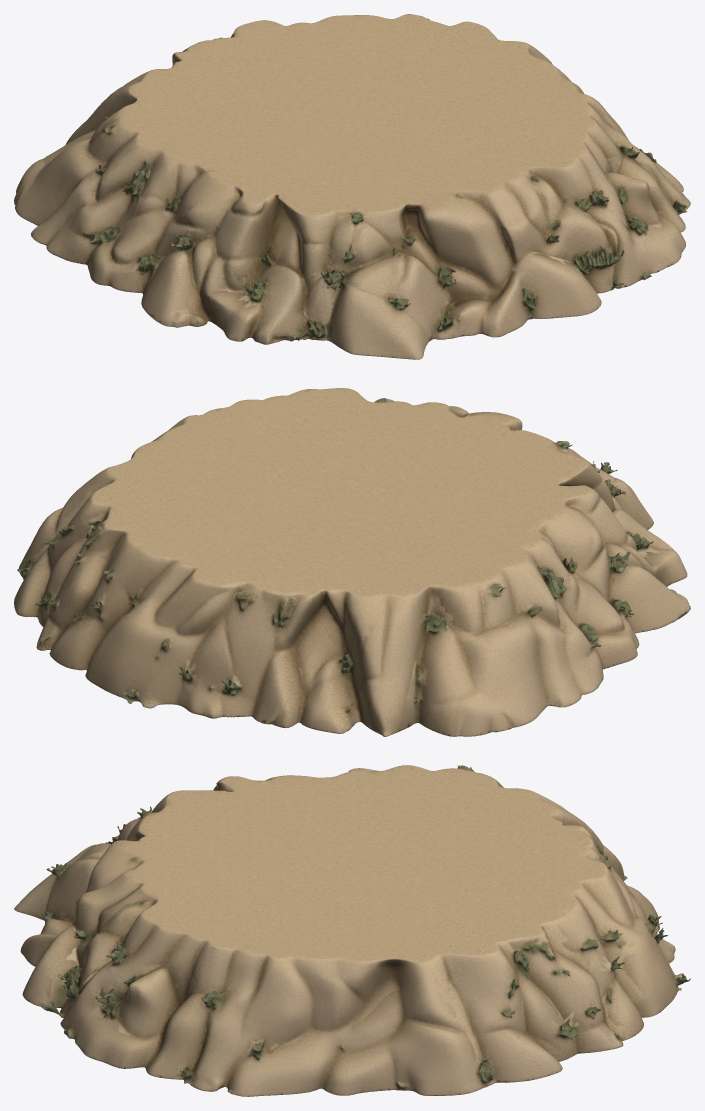
Rendered from Meshy_AI_A_realistic_3D_game_e_0909173639_texture.fbx.
The picture shows the model from 3 angles, top to bottom: view 1: azimuth 30°, elevation 25°; view 2: azimuth 150°, elevation 25°; view 3: azimuth 270°, elevation 25°; orthographic projection. The views are drawn at different scales.
Visible parts, largest first — view 1: Mesh_0; view 2: Mesh_0; view 3: Mesh_0.
Part boxes in pixels (x1,y1,x2,y2): Mesh_0: (14, 14, 690, 359); Mesh_0: (14, 388, 690, 736); Mesh_0: (14, 765, 690, 1096).
Bounding box in the file's own units: 179 × 31.71 × 188.
1 material, 1 textured.
